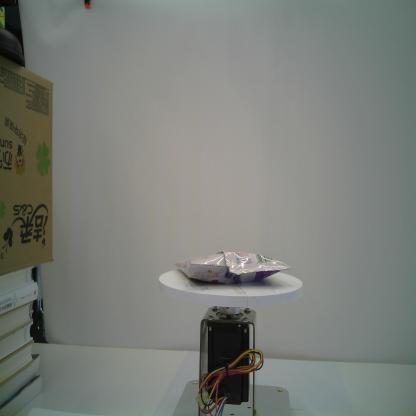Instant Drink: (173, 250, 291, 285)
